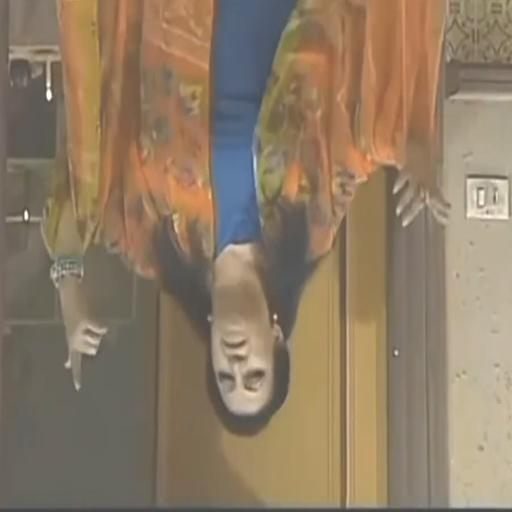jannet: (208, 281, 289, 435)
